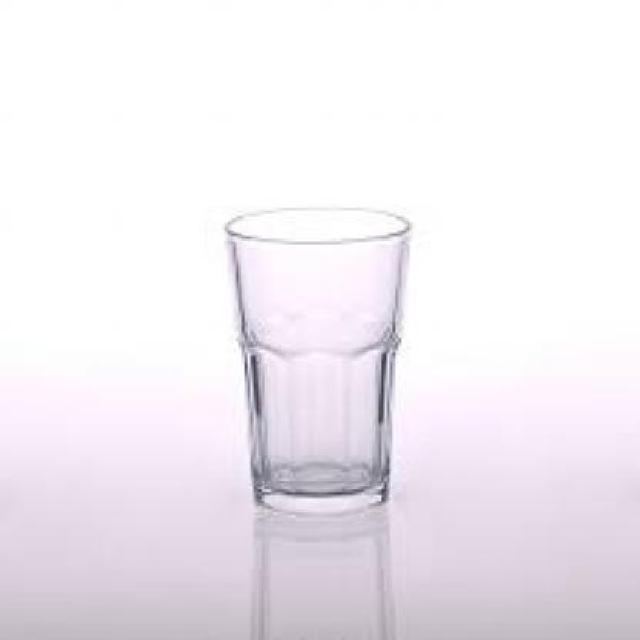kaca: (225, 205, 409, 512)
